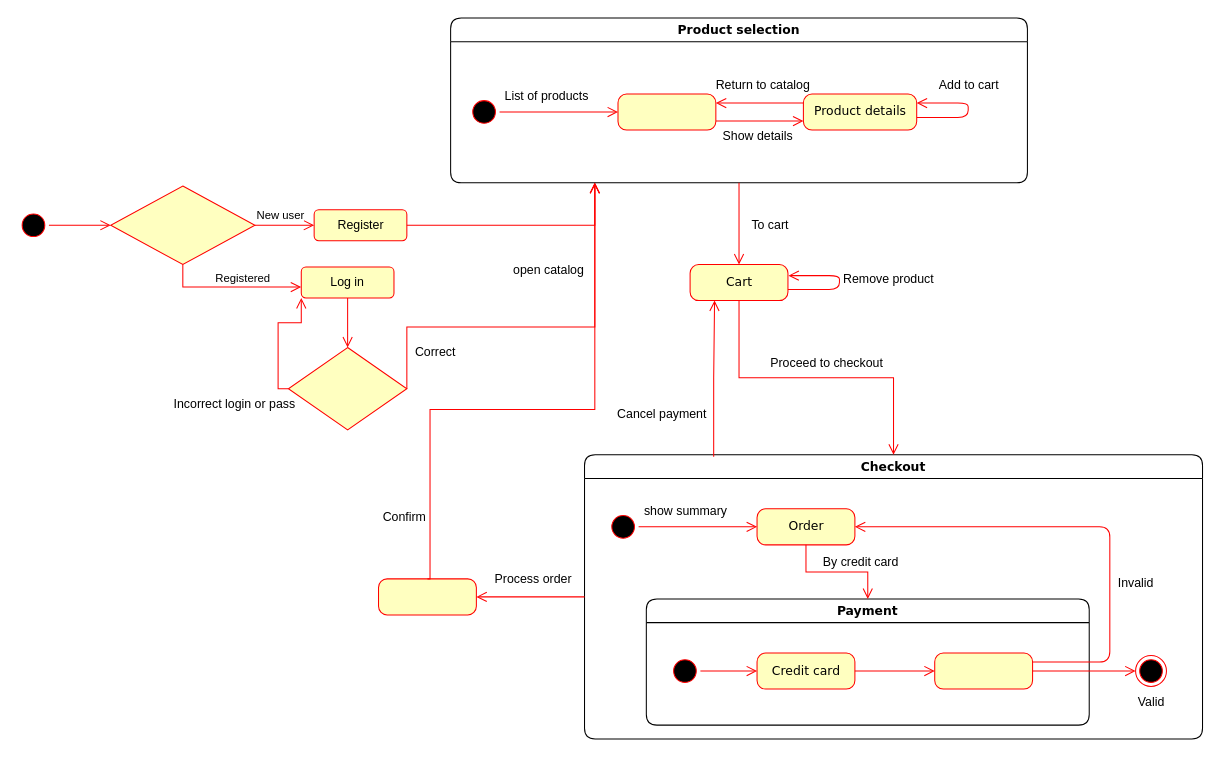
Image size: 1221x757. Some labels were removed from this diagram. The shapes that lost their labels are listed below. From the top down, each one's centre as x and y in pixels, then its label:
At [666,111]: "Catalog".
At [182,225]: "Новый или существующий пользователь".
At [347,388]: "Проверка корректности данных".
At [426,596]: "Order info".
At [983,670]: "Validate".
